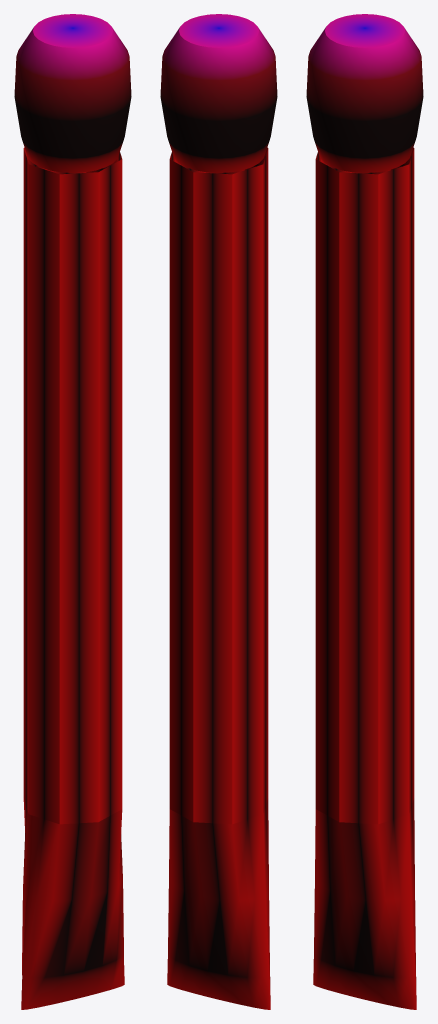
File: prop_chisel.fbx
3 views of the same model, side by side, from view 1: azimuth 30°, elevation 25°; view 2: azimuth 150°, elevation 25°; view 3: azimuth 330°, elevation 25° (orthographic).
Parts seen in each view (by area): view 1: prop_chisel; view 2: prop_chisel; view 3: prop_chisel.
Boxes of the visible parts, bbox=[...] form: prop_chisel: bbox=[14, 14, 131, 1009]; prop_chisel: bbox=[160, 14, 277, 1009]; prop_chisel: bbox=[306, 14, 423, 1009].
Size of the model in its own units: 0.019 by 0.17 by 0.0186.
